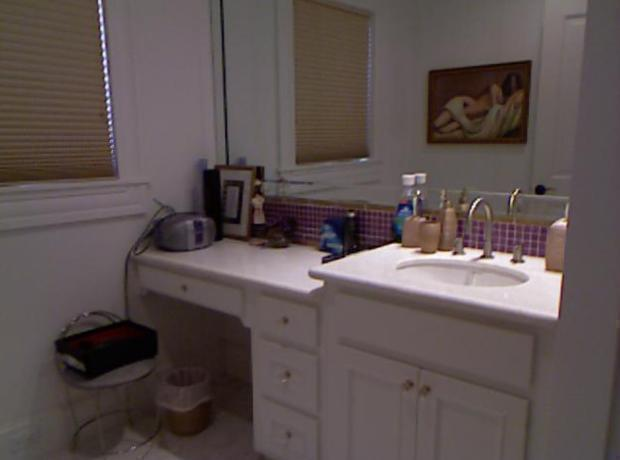Lavamanos: (389, 189, 539, 301)
